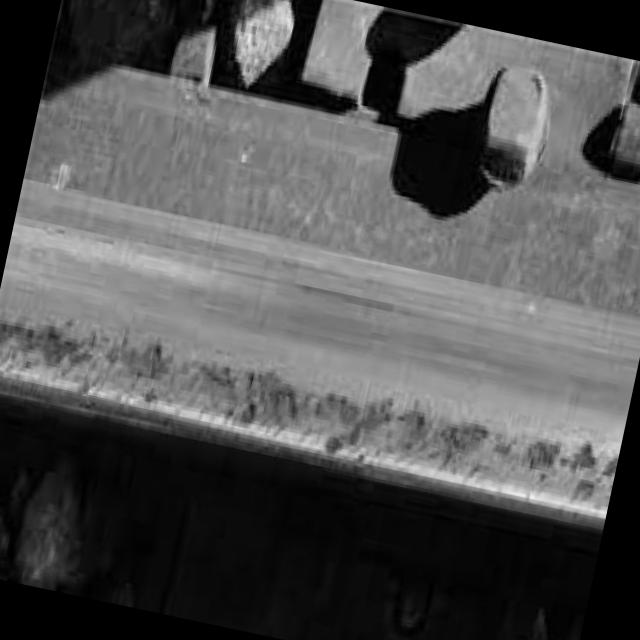defective: (0, 256, 632, 593)
